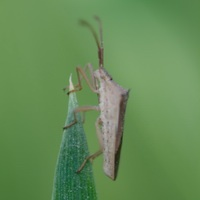insect: (63, 16, 128, 179)
